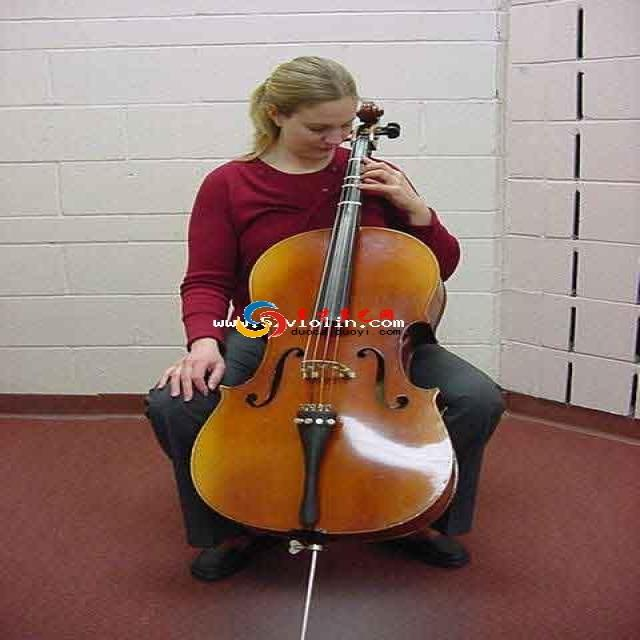cello: (188, 98, 467, 543)
